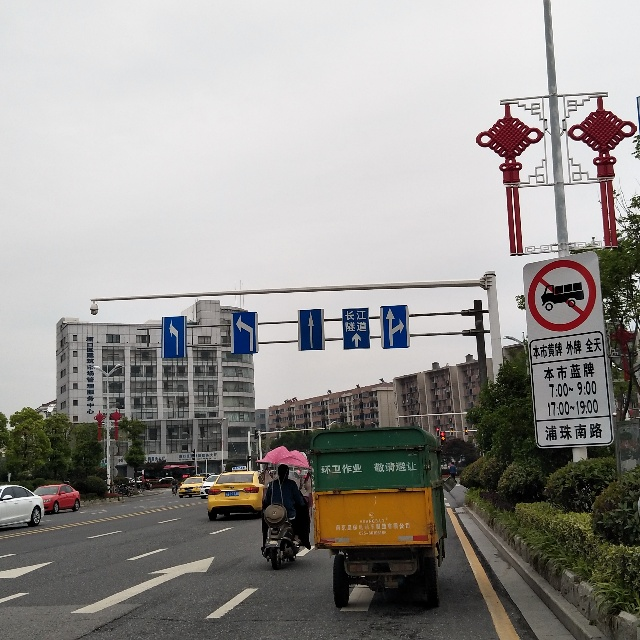left: (226, 308, 265, 357), (158, 312, 191, 361)
straight: (299, 307, 329, 352)
